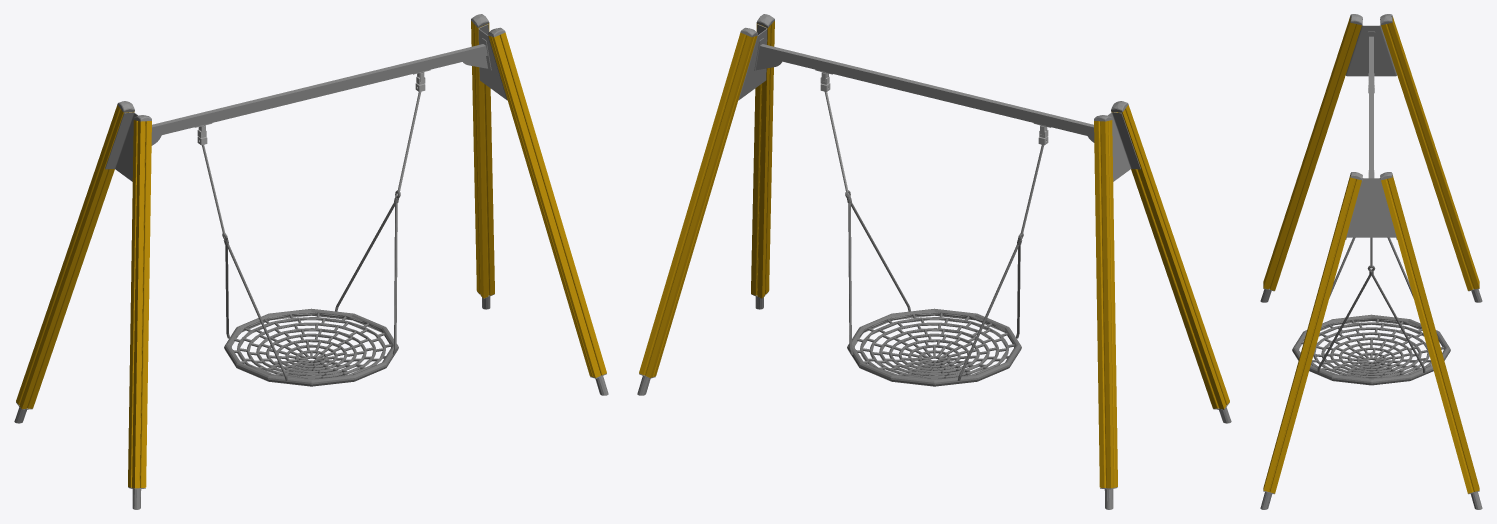
File: swing.obj
3 renders of one model, left to right at view 1: azimuth 30°, elevation 25°; view 2: azimuth 150°, elevation 25°; view 3: azimuth 270°, elevation 25°, orthographic. The views are drawn at different scales.
Visible parts, largest first — view 1: _dSolid, _dSolid02, _dSolid01; view 2: _dSolid, _dSolid01, _dSolid02; view 3: _dSolid, _dSolid02, _dSolid01.
Part boxes in pixels (<box>): _dSolid: <box>14,14,608,509</box>; _dSolid02: <box>488,32,606,377</box>; _dSolid01: <box>471,21,494,298</box>; _dSolid: <box>637,14,1231,509</box>; _dSolid01: <box>639,32,757,377</box>; _dSolid02: <box>751,21,774,298</box>; _dSolid: <box>1260,14,1482,509</box>; _dSolid02: <box>1263,175,1361,493</box>; _dSolid01: <box>1381,175,1479,493</box>.
Size of the model in its own units: 1.54 by 1.06 by 0.6886.
